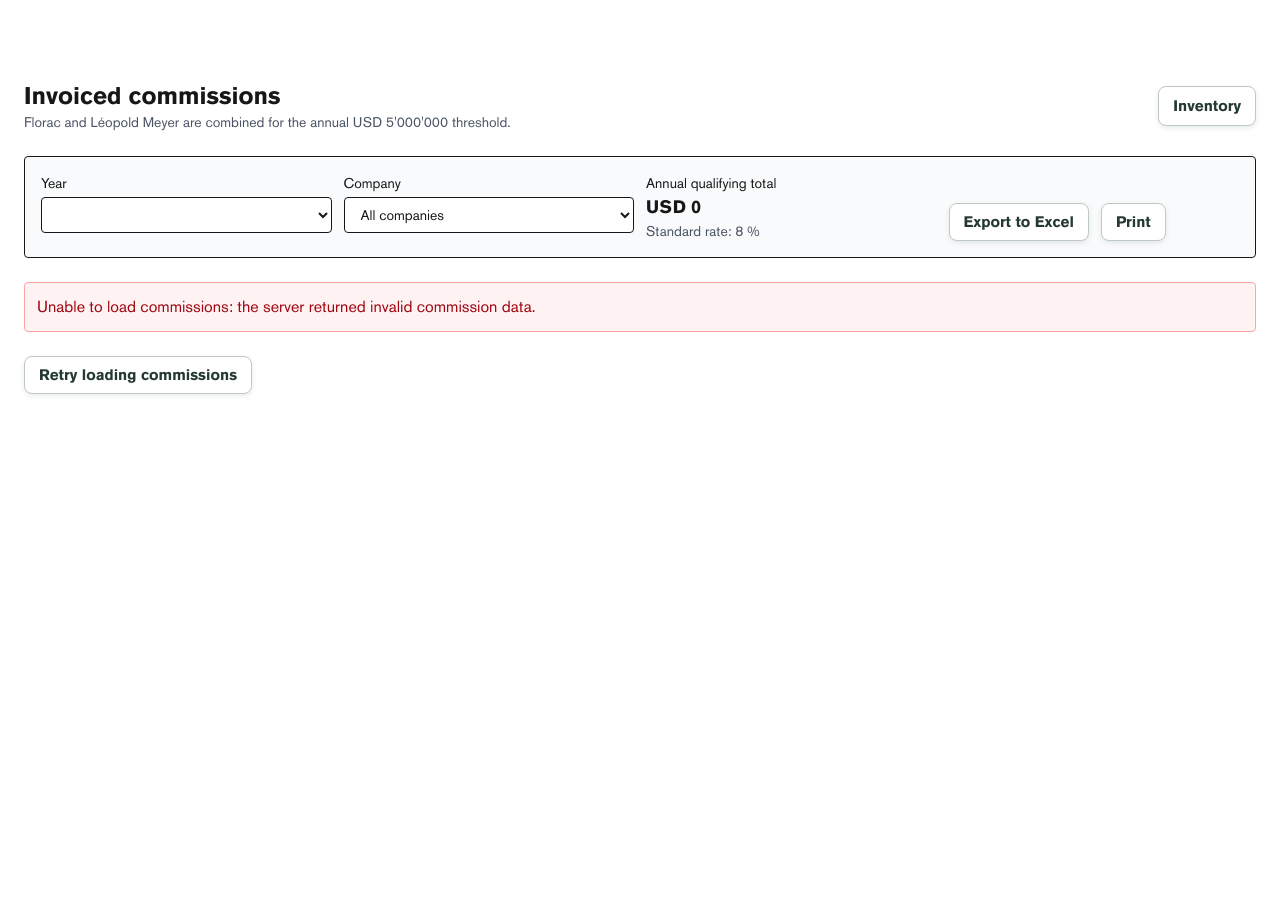
Test: commission invoice file input › stops loading and offers retry after invalid data
The image size is (1280, 900).
Expected: the message "Unable to load commissions: the server returned invalid commission data." is shown, [24,282,1256,332]
Click the button "Retry loading commissions".
click(138, 375)  # box [24,356,252,394]
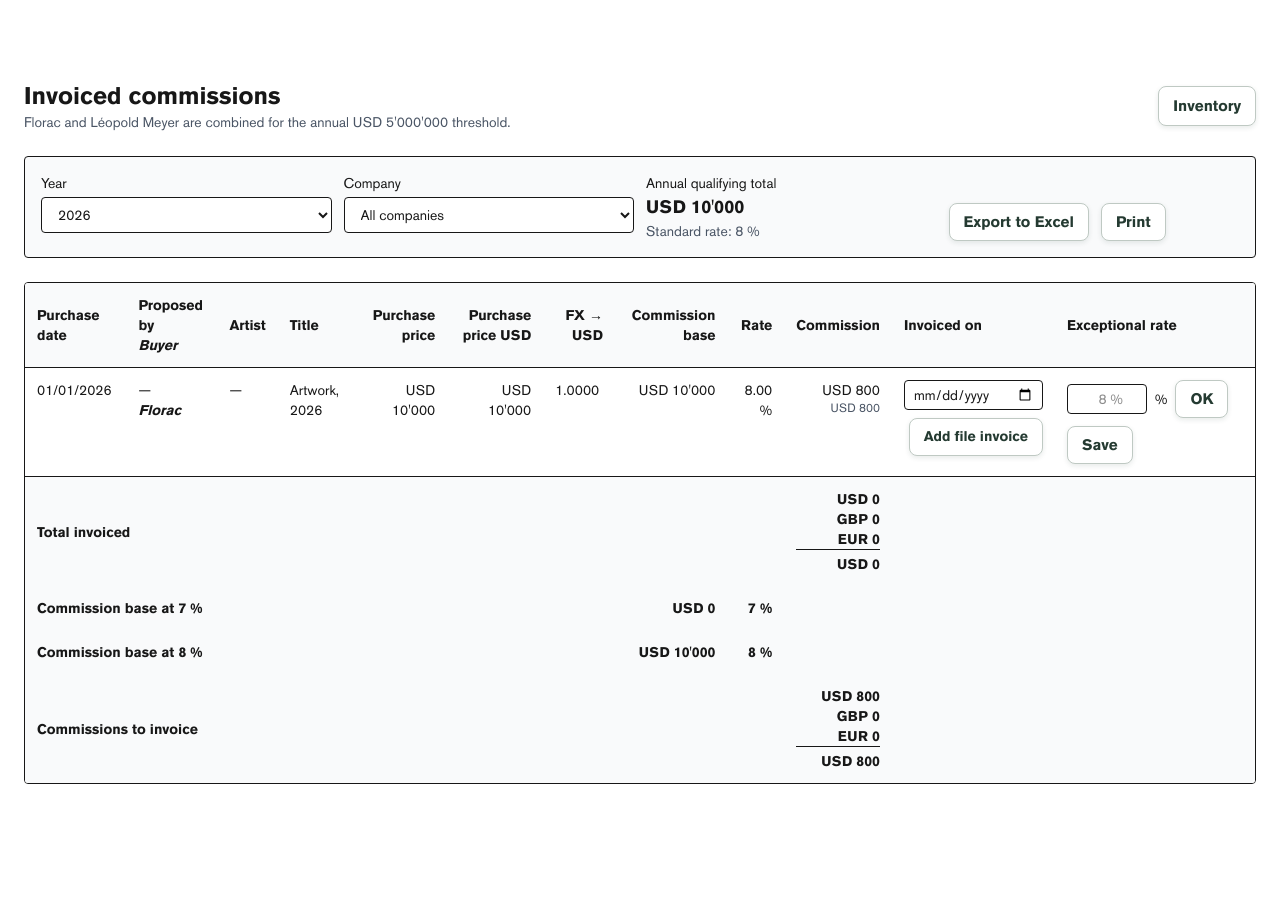
Result: the message "Unable to load commissions: the server returned invalid commission data." is gone
Result: the text "Artwork" is shown at [290,382,339,418]
